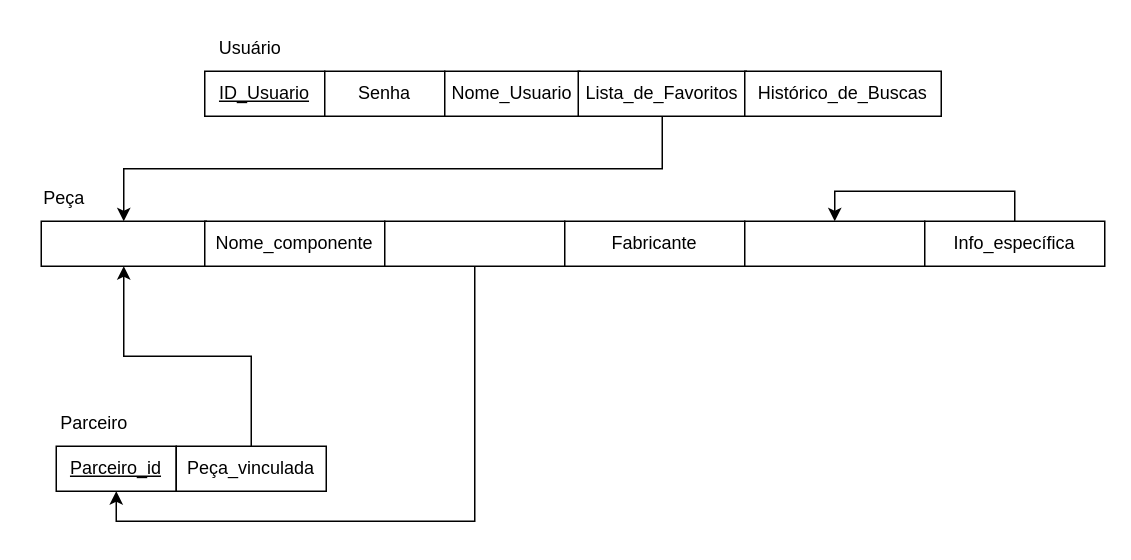
Image size: 1131x560. Some labels were removed from this diagram. The shapes that lost their labels are listed below. From the top down, each one's centre as x and y in pixels, then its label:
At pixel 123 243: "Número_de_Série".
At pixel 474 243: "Distribuidor".
At pixel 834 243: "Categoria".
